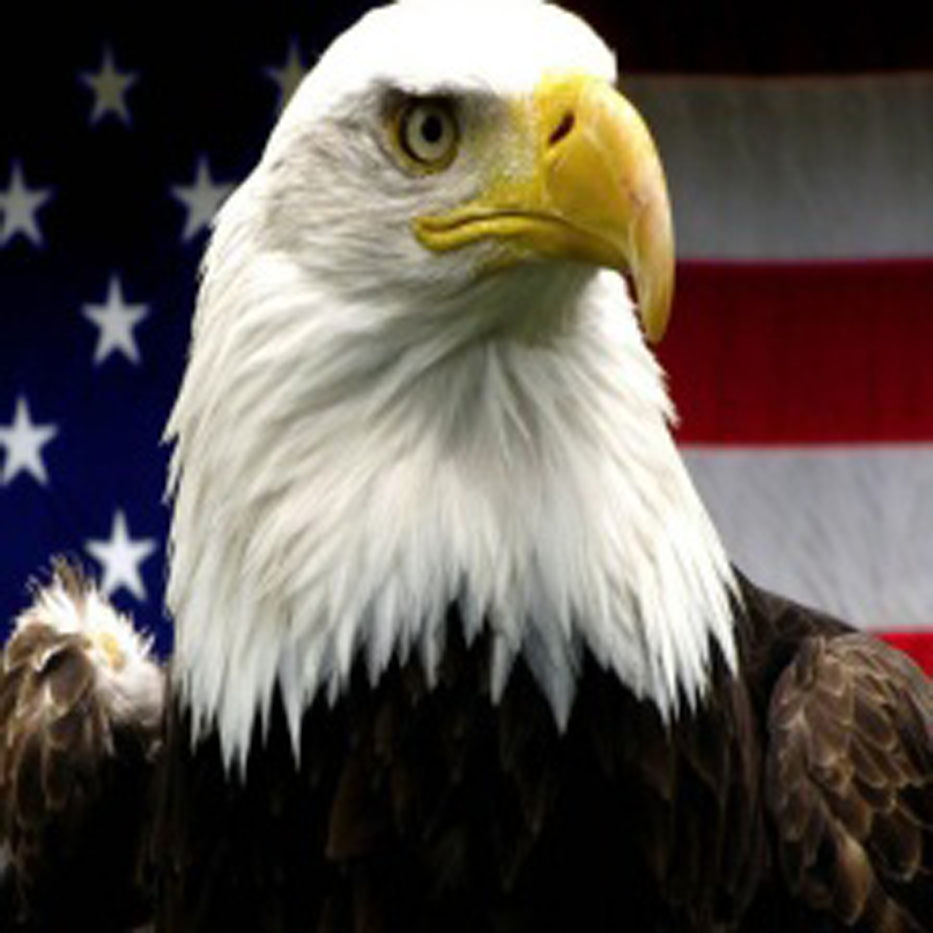Pengoyak Daging: (520, 72, 716, 372)
